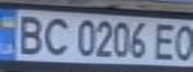0: (72, 16, 96, 57), (112, 19, 133, 58)
2: (93, 17, 115, 59)
6: (127, 19, 154, 60)
B: (9, 11, 48, 55)
C: (39, 15, 72, 56)
E: (151, 20, 181, 62)
O: (172, 22, 193, 61)
